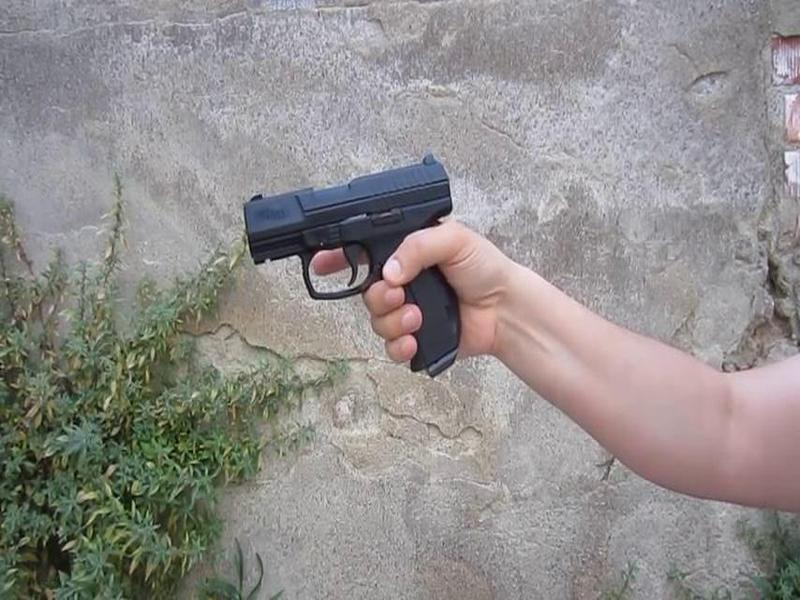Pistola: (218, 141, 500, 392)
